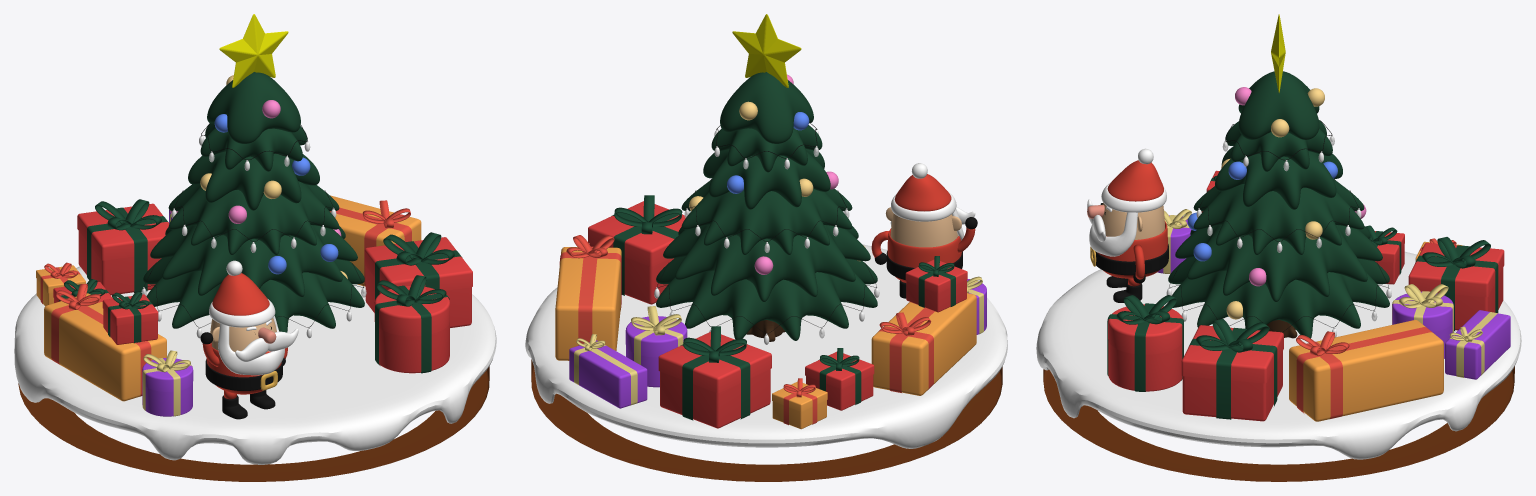
Rendered from christmas.glb.
3 renders of one model, left to right at view 1: azimuth 30°, elevation 25°; view 2: azimuth 150°, elevation 25°; view 3: azimuth 270°, elevation 25°, orthographic.
Parts seen in each view (by area): view 1: snow.001, stage.001, tree5.001, tree4.001, tree6.001, Cube.024, tree1.001, tree3.001, tree2.001, Cube.027, Cube.034, Cylinder.012 (+24 smaller); view 2: snow.001, stage.001, tree6.001, tree5.001, tree4.001, Cube.024, Cube.029, tree3.001, tree1.001, Cube.033, Cube.031, Cube.034 (+24 smaller); view 3: snow.001, stage.001, Cube.029, tree6.001, tree5.001, tree4.001, tree3.001, tree1.001, Cube.026, Cube.027, tree2.001, Cube.031 (+18 smaller).
Part boxes in pixels (x1,y1,x2,y2): snow.001: (14, 266, 496, 464); stage.001: (18, 366, 489, 481); tree5.001: (150, 225, 357, 296); tree4.001: (168, 181, 339, 254); tree6.001: (143, 257, 364, 332); Cube.024: (44, 293, 166, 401); tree1.001: (207, 72, 300, 143); tree3.001: (188, 151, 319, 210); tree2.001: (200, 123, 307, 171); Cube.027: (364, 237, 472, 290); Cube.034: (77, 203, 169, 260); Cylinder.012: (379, 322, 449, 373); snow.001: (525, 244, 1007, 448); stage.001: (531, 359, 1002, 481); tree6.001: (656, 257, 877, 340); tree5.001: (663, 225, 870, 301); tree4.001: (681, 179, 852, 254); Cube.024: (871, 293, 976, 395); Cube.029: (555, 247, 621, 360); tree3.001: (703, 149, 830, 209); tree1.001: (720, 72, 813, 143); Cube.033: (660, 369, 770, 428); Cube.031: (569, 340, 647, 408); Cube.034: (658, 331, 771, 392); snow.001: (1036, 251, 1521, 459); stage.001: (1043, 366, 1514, 481); Cube.029: (1289, 320, 1443, 421); tree6.001: (1168, 257, 1389, 338); tree5.001: (1175, 225, 1382, 301); tree4.001: (1193, 179, 1364, 254); tree3.001: (1215, 146, 1342, 209); tree1.001: (1238, 71, 1319, 139); Cube.026: (1182, 351, 1282, 421); Cube.027: (1181, 325, 1283, 383); tree2.001: (1225, 120, 1332, 171); Cube.031: (1445, 310, 1510, 379).
Size of the model in its own units: 16.44 by 13.89 by 16.54.
